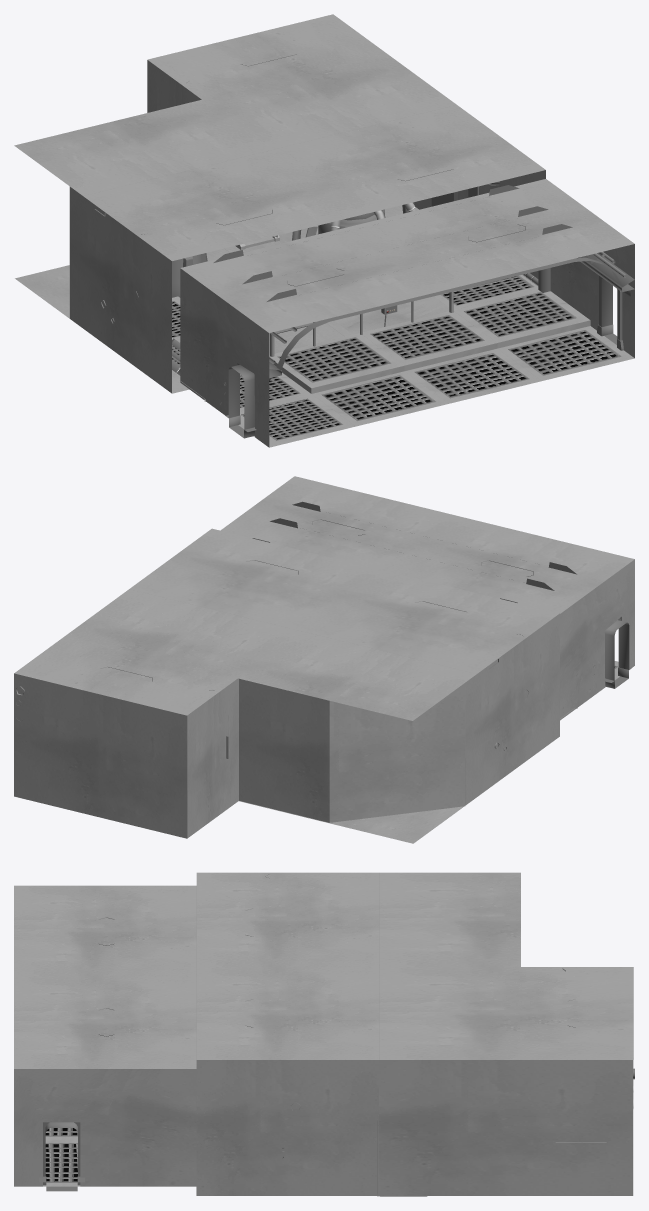
File: MSH_Fusion_reactor_room_L2_R2_optimized.fbx
3 renders of one model, top to bottom at view 1: azimuth 30°, elevation 25°; view 2: azimuth 150°, elevation 25°; view 3: azimuth 270°, elevation 25°, orthographic. The views are drawn at different scales.
Visible parts, largest first — view 1: lightmap0, lightmap1, lightmap-1; view 2: lightmap0, lightmap-1, lightmap1; view 3: lightmap0.
Part boxes in pixels (x1,y1,x2,y2): lightmap0: [14, 14, 634, 447]; lightmap1: [95, 54, 634, 401]; lightmap-1: [228, 278, 617, 438]; lightmap0: [14, 476, 634, 843]; lightmap-1: [605, 620, 629, 688]; lightmap1: [16, 501, 594, 758]; lightmap0: [14, 872, 633, 1196].
Bounding box in the file's own units: 20.61 × 6.91 × 28.07.
